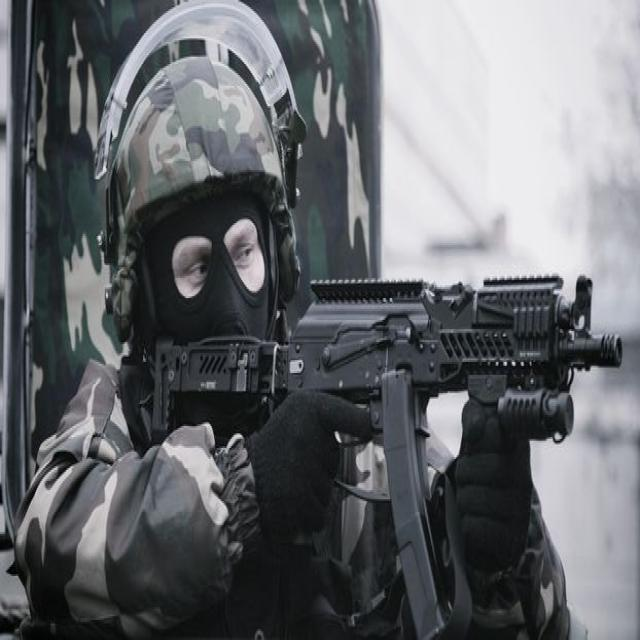firearm: (155, 273, 623, 640)
